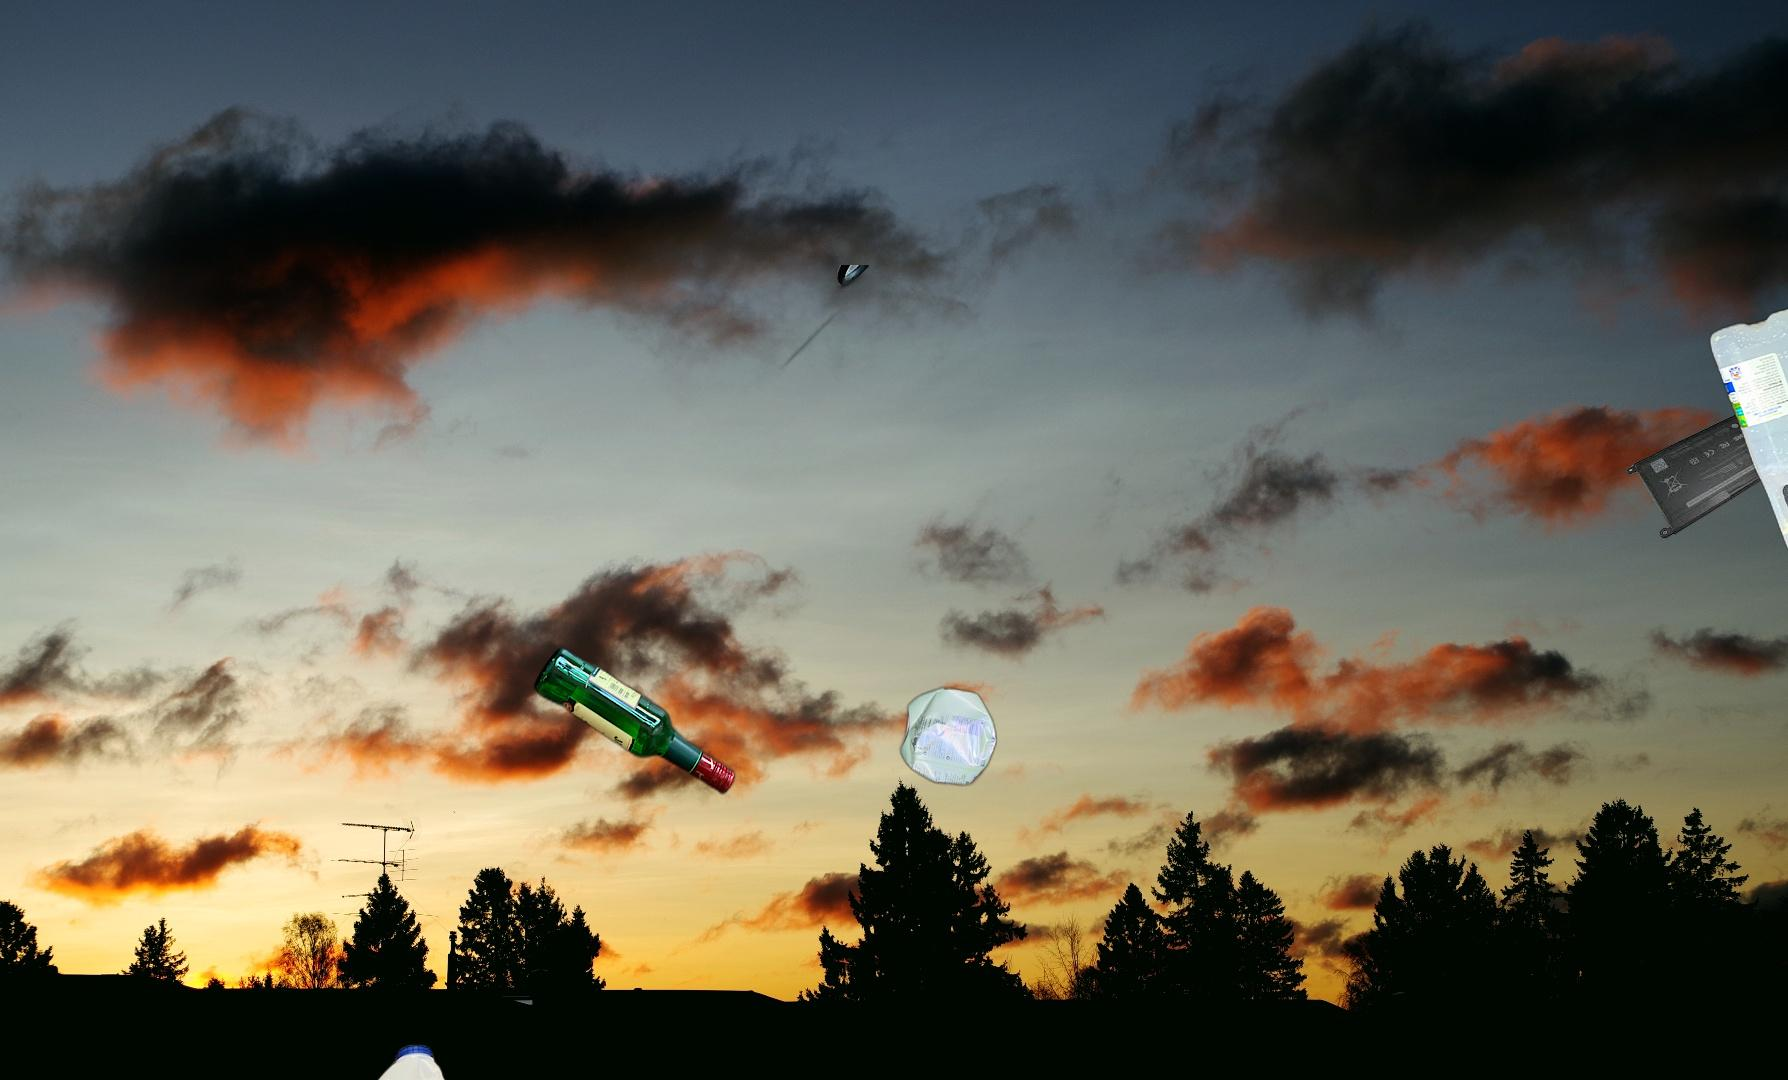battery: (1625, 396, 1788, 541)
glass: (529, 266, 874, 799)
metal-cans: (897, 680, 1000, 791)
plastic-bottles: (1705, 301, 1788, 583), (359, 1038, 467, 1080)
